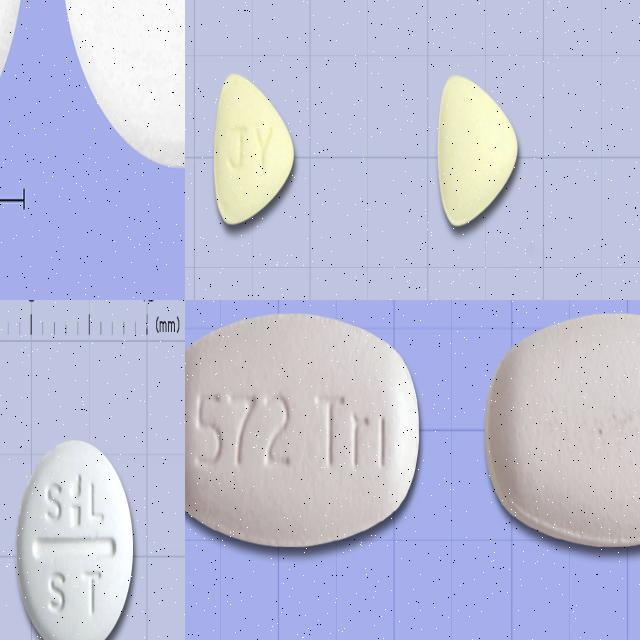Durova: (212, 70, 295, 227), (436, 73, 519, 228)
Lamisil: (59, 0, 185, 167)
Shuclari Tab: (16, 439, 135, 640)
Truvada Tab: (185, 314, 420, 545), (485, 312, 640, 548)
